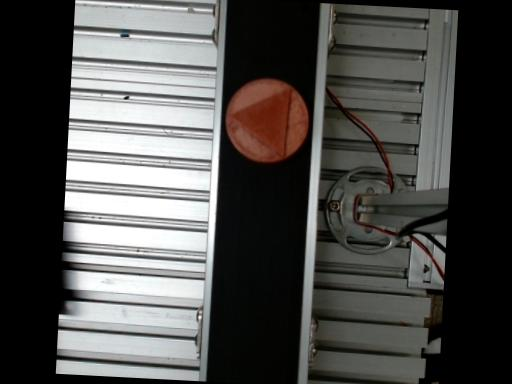Brown_Waper: (224, 78, 307, 163)
Not_Square: (225, 88, 290, 159)
